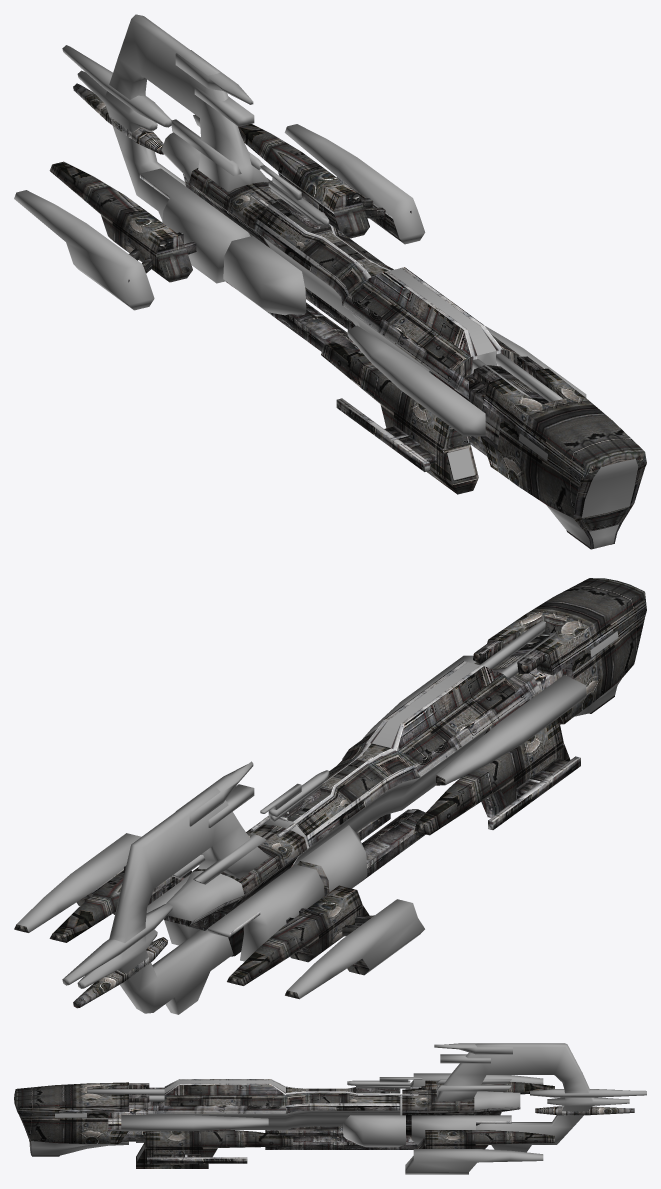
The model's file is humanDestroyer.dae.
The picture shows the model from 3 angles, top to bottom: view 1: azimuth 30°, elevation 25°; view 2: azimuth 150°, elevation 25°; view 3: azimuth 270°, elevation 25°; orthographic projection. The views are drawn at different scales.
Visible parts, largest first — view 1: Cube; view 2: Cube; view 3: Cube.
Part boxes in pixels (x1=…): Cube: x1=14, y1=14, x2=646, y2=549; Cube: x1=14, y1=578, x2=646, y2=1014; Cube: x1=14, y1=1043, x2=646, y2=1174.
Size of the model in its own units: 7.07 by 4.49 by 22.81.
9 materials, 4 textured.
